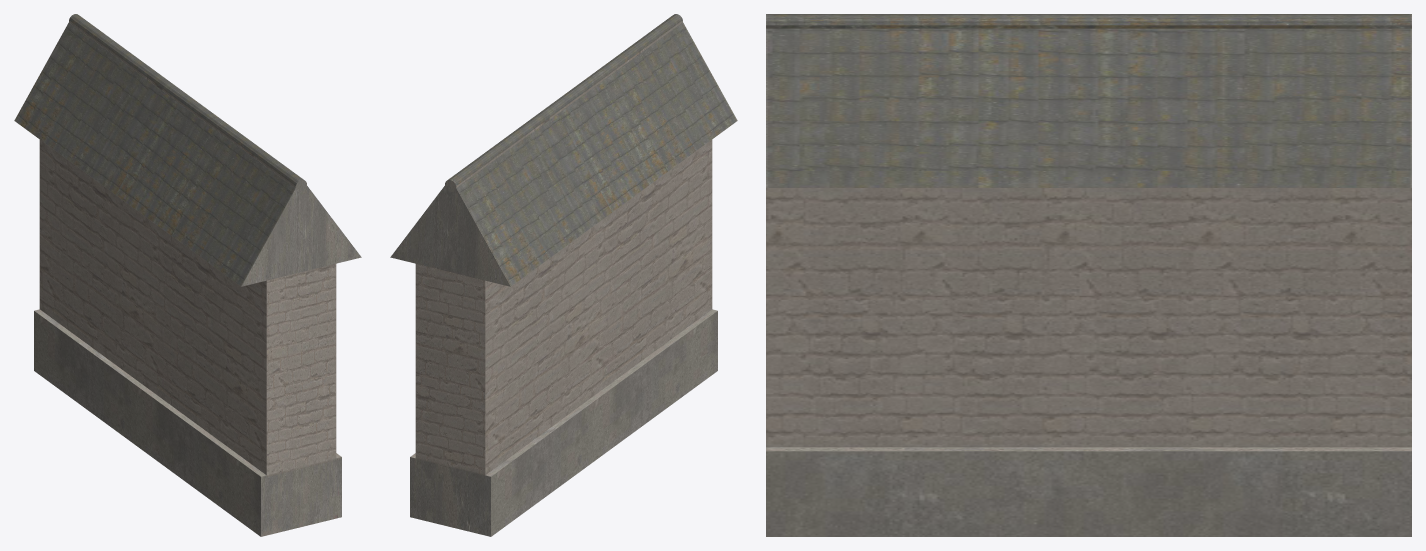
File: Hutong Wall vedits.glb
3 renders of one model, left to right at view 1: azimuth 30°, elevation 25°; view 2: azimuth 150°, elevation 25°; view 3: azimuth 270°, elevation 25°, orthographic. The views are drawn at different scales.
Visible parts, largest first — view 1: Wall; view 2: Wall; view 3: Wall.
Boxes of the visible parts, left/top/right/bottom form: Wall: left=14, top=14, right=361, bottom=536; Wall: left=390, top=14, right=737, bottom=536; Wall: left=766, top=14, right=1411, bottom=536.
Size of the model in its own units: 0.868 by 2.39 by 2.83.
1 material, 1 textured.
